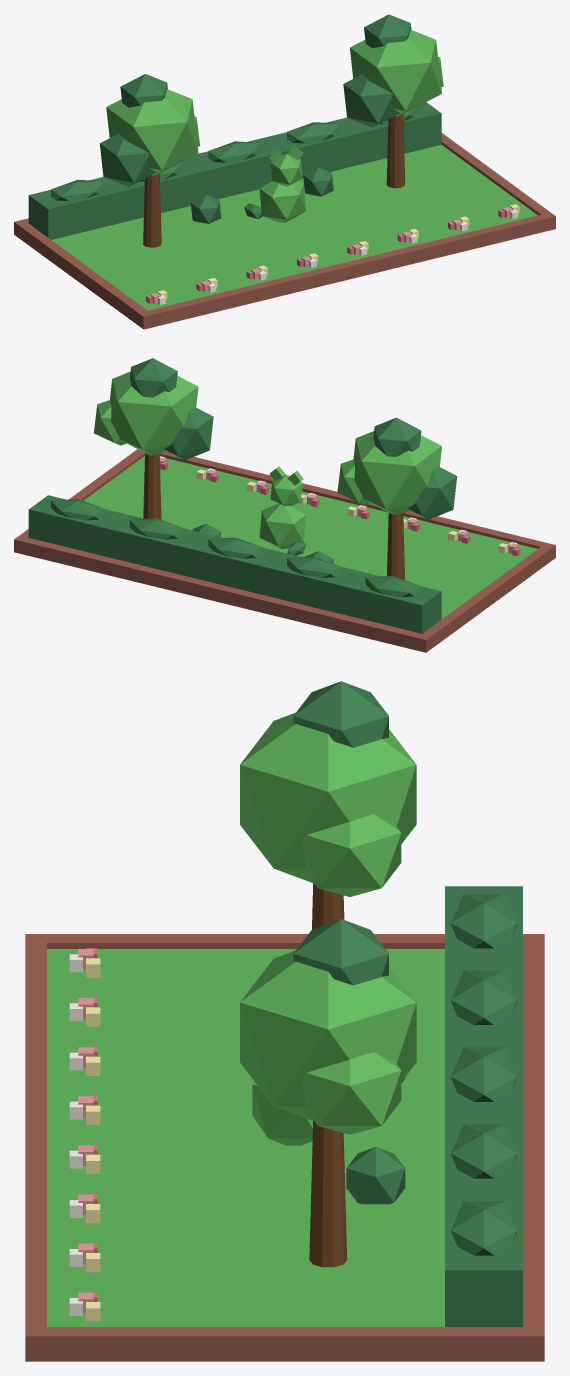
Rendered from CatCafe_Square_Garden.glb.
3 views of the same model, one above another, from view 1: azimuth 30°, elevation 25°; view 2: azimuth 150°, elevation 25°; view 3: azimuth 270°, elevation 25° (orthographic). The views are drawn at different scales.
Visible parts, largest first — view 1: CatCafe_Square_Garden, CatCafe_Square_Garden_Flowers; view 2: CatCafe_Square_Garden, CatCafe_Square_Garden_Flowers; view 3: CatCafe_Square_Garden, CatCafe_Square_Garden_Flowers.
Part boxes in pixels (bbox=[...]): CatCafe_Square_Garden: bbox=[14, 14, 555, 329]; CatCafe_Square_Garden_Flowers: bbox=[146, 204, 519, 304]; CatCafe_Square_Garden: bbox=[14, 358, 555, 652]; CatCafe_Square_Garden_Flowers: bbox=[159, 456, 520, 556]; CatCafe_Square_Garden: bbox=[25, 681, 544, 1361]; CatCafe_Square_Garden_Flowers: bbox=[69, 948, 100, 1321].
Bounding box in the file's own units: 22 × 9.1 × 12.
1 material, 1 textured.
